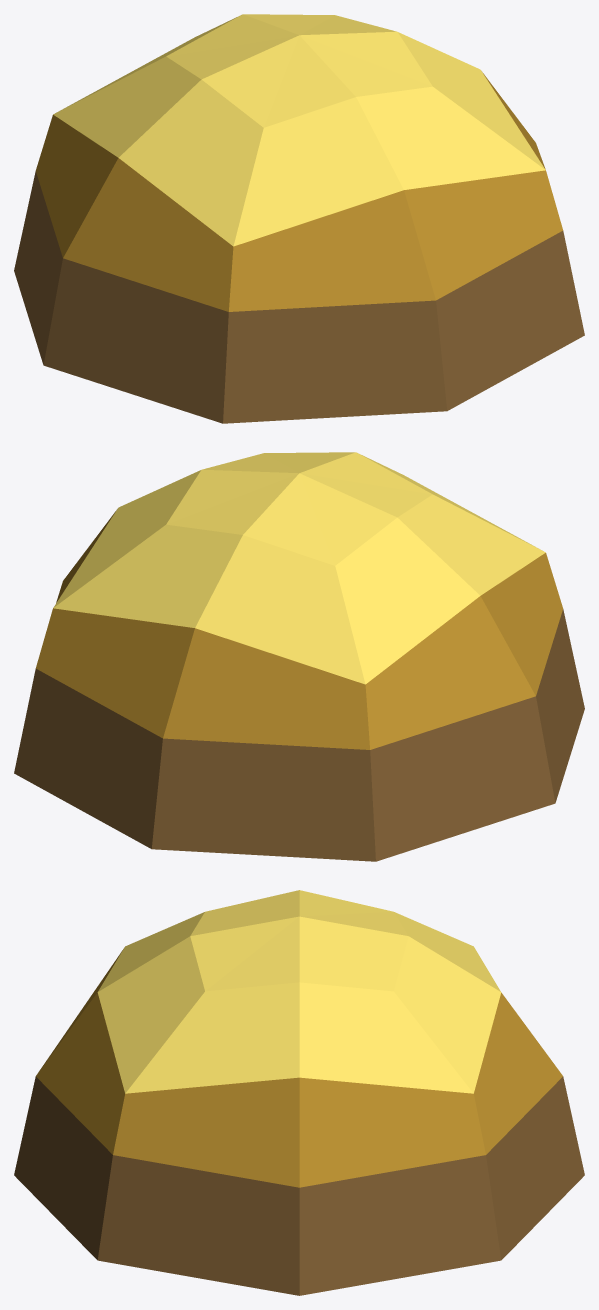
The model's file is Haybale.fbx.
The picture shows the model from 3 angles, top to bottom: view 1: azimuth 30°, elevation 25°; view 2: azimuth 150°, elevation 25°; view 3: azimuth 270°, elevation 25°; orthographic projection. The views are drawn at different scales.
Parts seen in each view (by area): view 1: Haybale; view 2: Haybale; view 3: Haybale.
Part boxes in pixels (<box>): Haybale: <box>14,14,584,423</box>; Haybale: <box>14,452,584,861</box>; Haybale: <box>14,890,584,1295</box>.
Bounding box in the file's own units: 2400 × 1200 × 2400.
